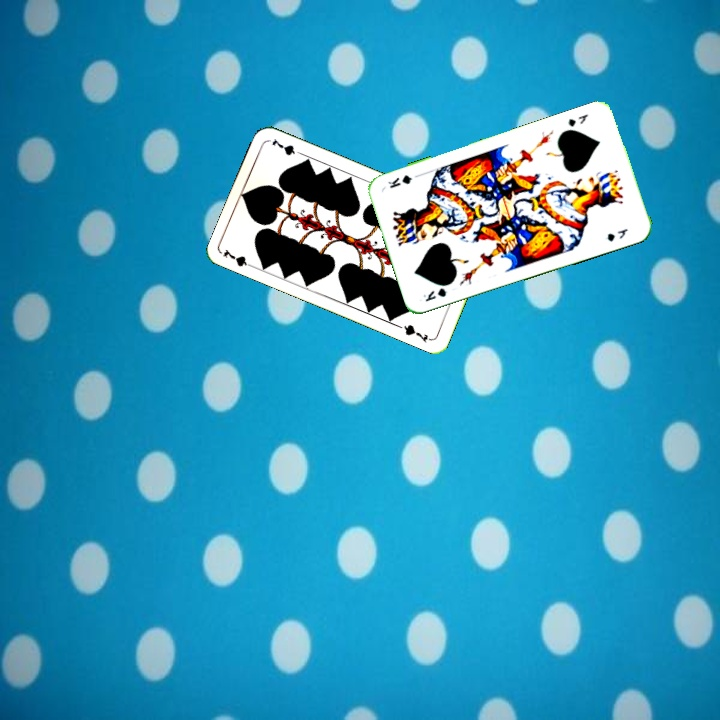G7: (219, 245, 259, 271)
GK: (419, 284, 449, 304), (564, 110, 591, 129)
